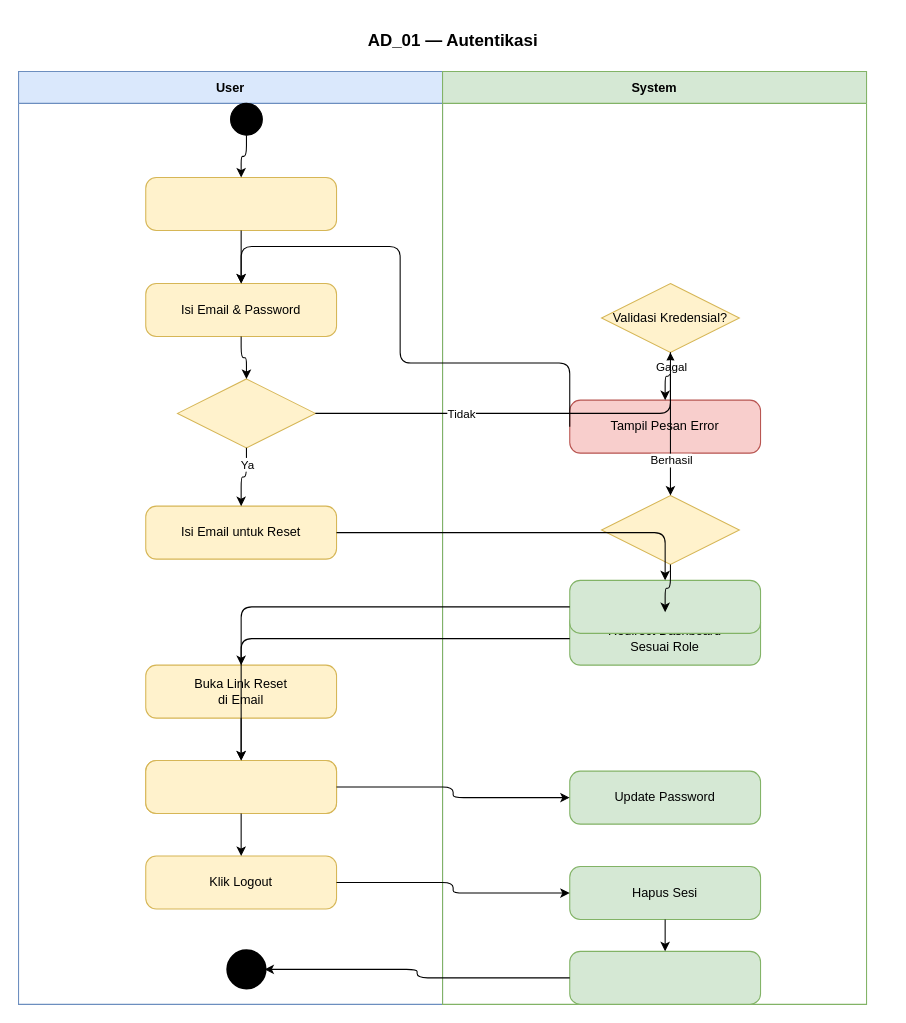
This 906x1023 diagram has some shape labels left out. The centre of each missing label's shape, as x and y in pixels:
"Akses Dashboard" goes at (x=241, y=786).
"Buka Halaman Login" goes at (x=241, y=203).
"Cek Role User" goes at (x=669, y=529).
"Kirim Link Reset ke Email" goes at (x=665, y=606).
"Lupa Password?" goes at (x=245, y=413).
"Redirect ke Halaman Login" goes at (x=665, y=977).
